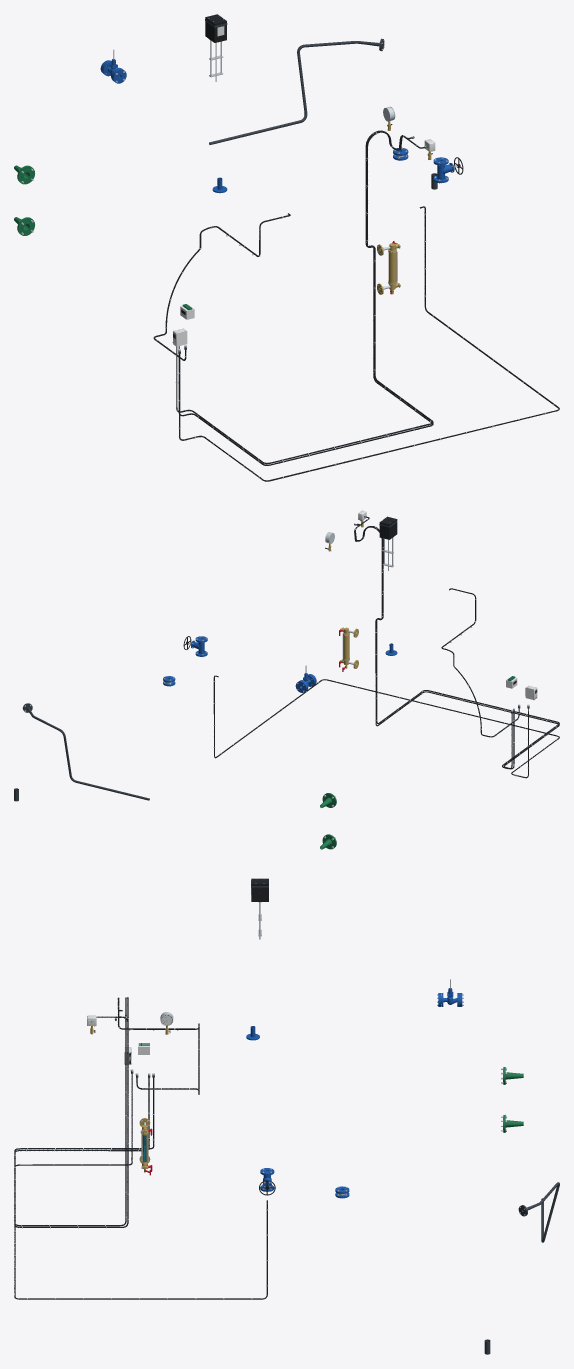
File: s4000-4-BP30FGoy.glb
3 views of the same model, one above another, from view 1: azimuth 30°, elevation 25°; view 2: azimuth 150°, elevation 25°; view 3: azimuth 270°, elevation 25° (orthographic). The views are drawn at different scales.
Visible parts, largest first — view 1: wiring_pump_1 / black, wiring_pressure_switch_2 / black, wiring_pressure_switch_1 / black, tds_without_fv / dark, sight_glasses_1 / sight_glasses_1_0.npz, wiring_low_level_2 / black, eco_inlet_adapter / green; view 2: wiring_pressure_switch_1 / black, wiring_pressure_switch_2 / black, wiring_pump_1 / black, tds_without_fv / dark, sight_glasses_1 / sight_glasses_1_0.npz, wiring_low_level_2 / black; view 3: wiring_pump_1 / black, wiring_pressure_switch_2 / black, wiring_pressure_switch_1 / black.
Part boxes in pixels (x1,y1,x2,y2): wiring_pump_1 / black: [178, 206, 559, 481]; wiring_pressure_switch_2 / black: [176, 131, 433, 464]; wiring_pressure_switch_1 / black: [178, 130, 433, 465]; tds_without_fv / dark: [209, 38, 384, 144]; sight_glasses_1 / sight_glasses_1_0.npz: [377, 241, 400, 294]; wiring_low_level_2 / black: [153, 213, 290, 360]; eco_inlet_adapter / green: [14, 165, 34, 235]; wiring_pressure_switch_1 / black: [354, 516, 559, 769]; wiring_pressure_switch_2 / black: [355, 524, 559, 769]; wiring_pump_1 / black: [213, 675, 559, 778]; tds_without_fv / dark: [22, 703, 149, 800]; sight_glasses_1 / sight_glasses_1_0.npz: [339, 627, 358, 671]; wiring_low_level_2 / black: [441, 588, 519, 737]; wiring_pump_1 / black: [14, 1074, 267, 1299]; wiring_pressure_switch_2 / black: [14, 998, 154, 1226]; wiring_pressure_switch_1 / black: [14, 997, 149, 1227].
Size of the model in its own units: 4.89 by 3.55 by 5.45.
